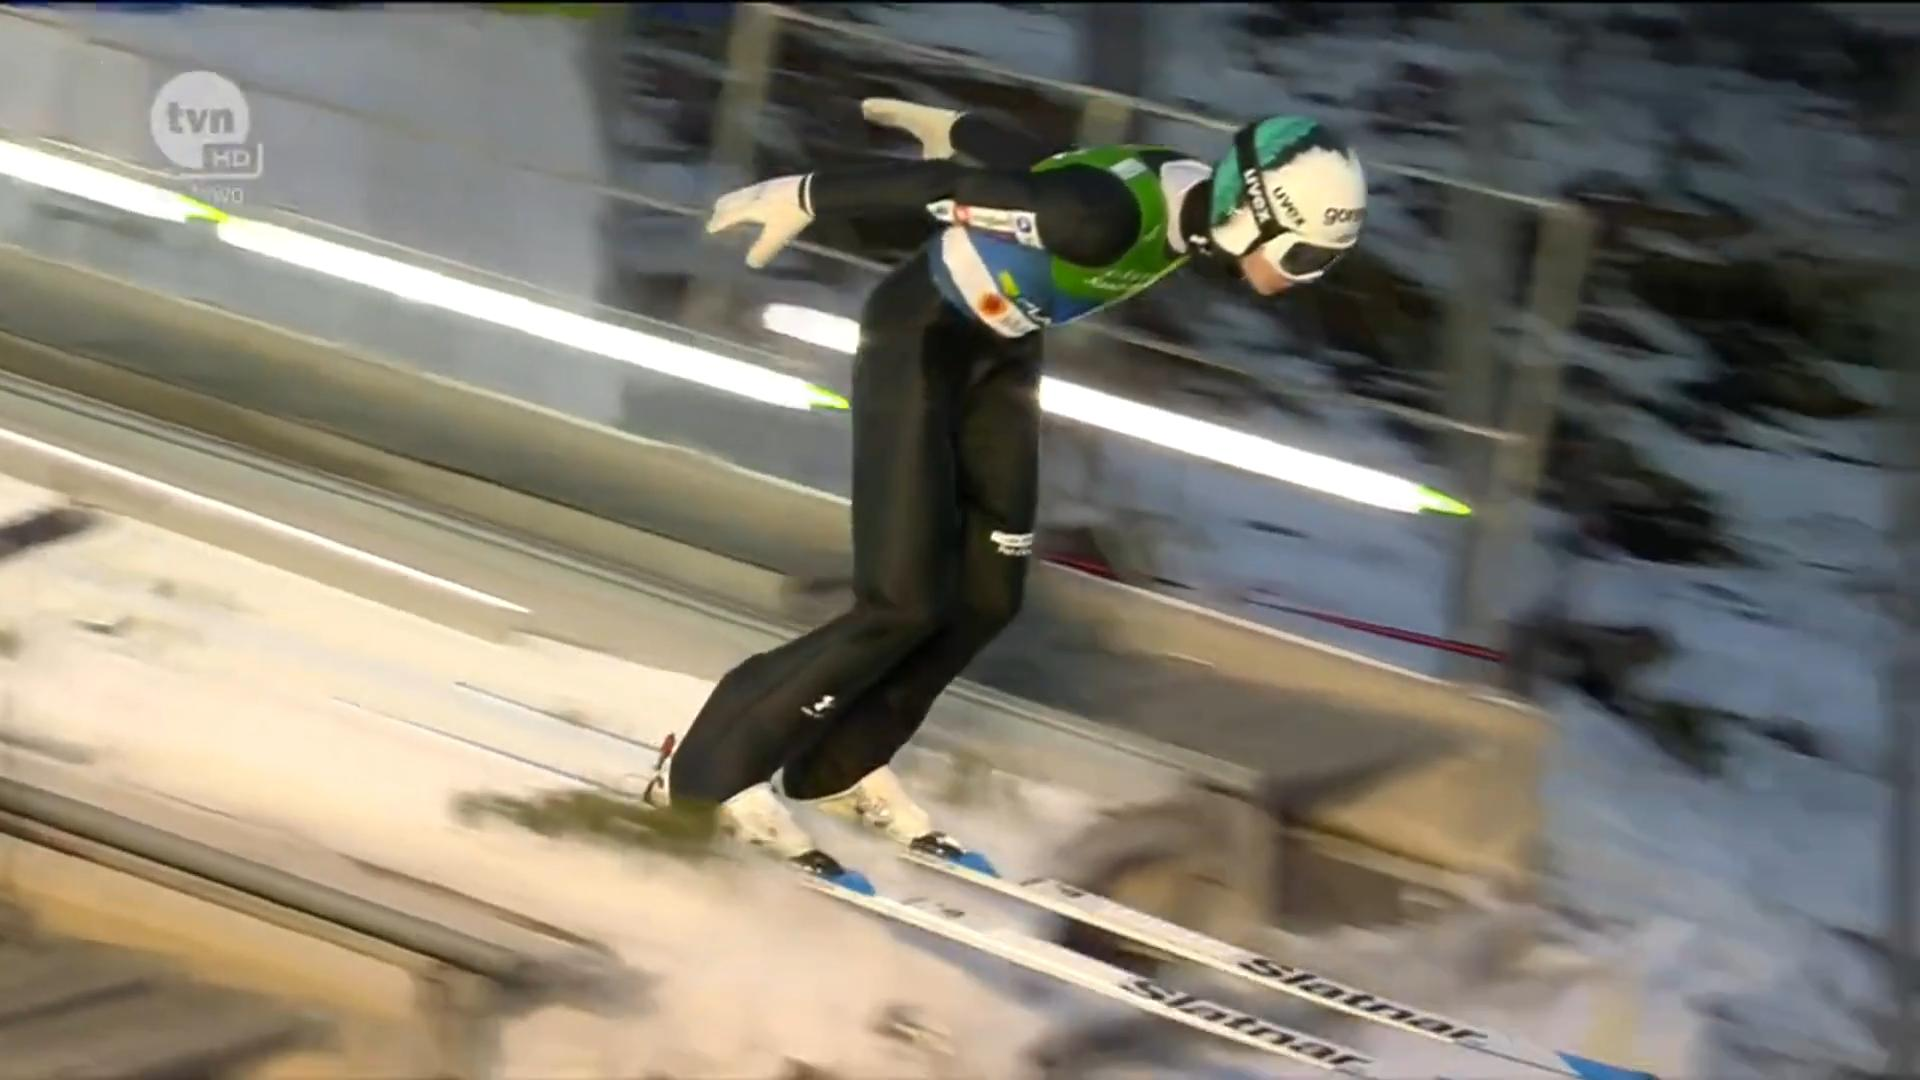prog: (1126, 732, 1447, 841)
